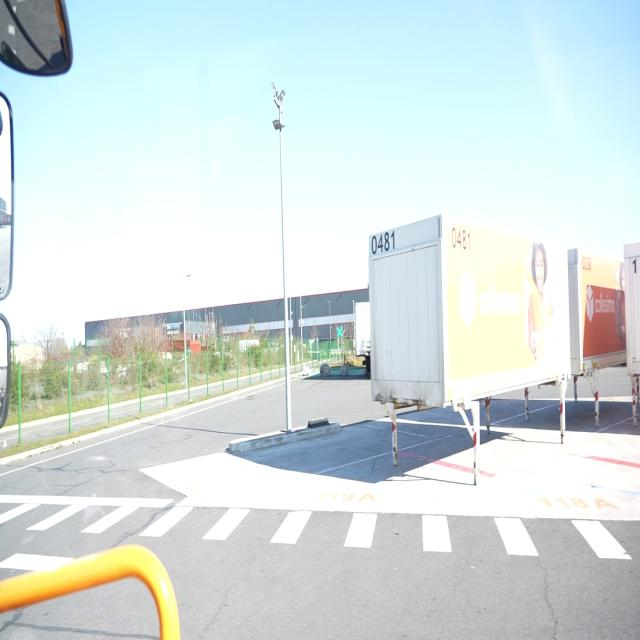Code: (368, 228, 398, 259), (447, 224, 475, 254)
